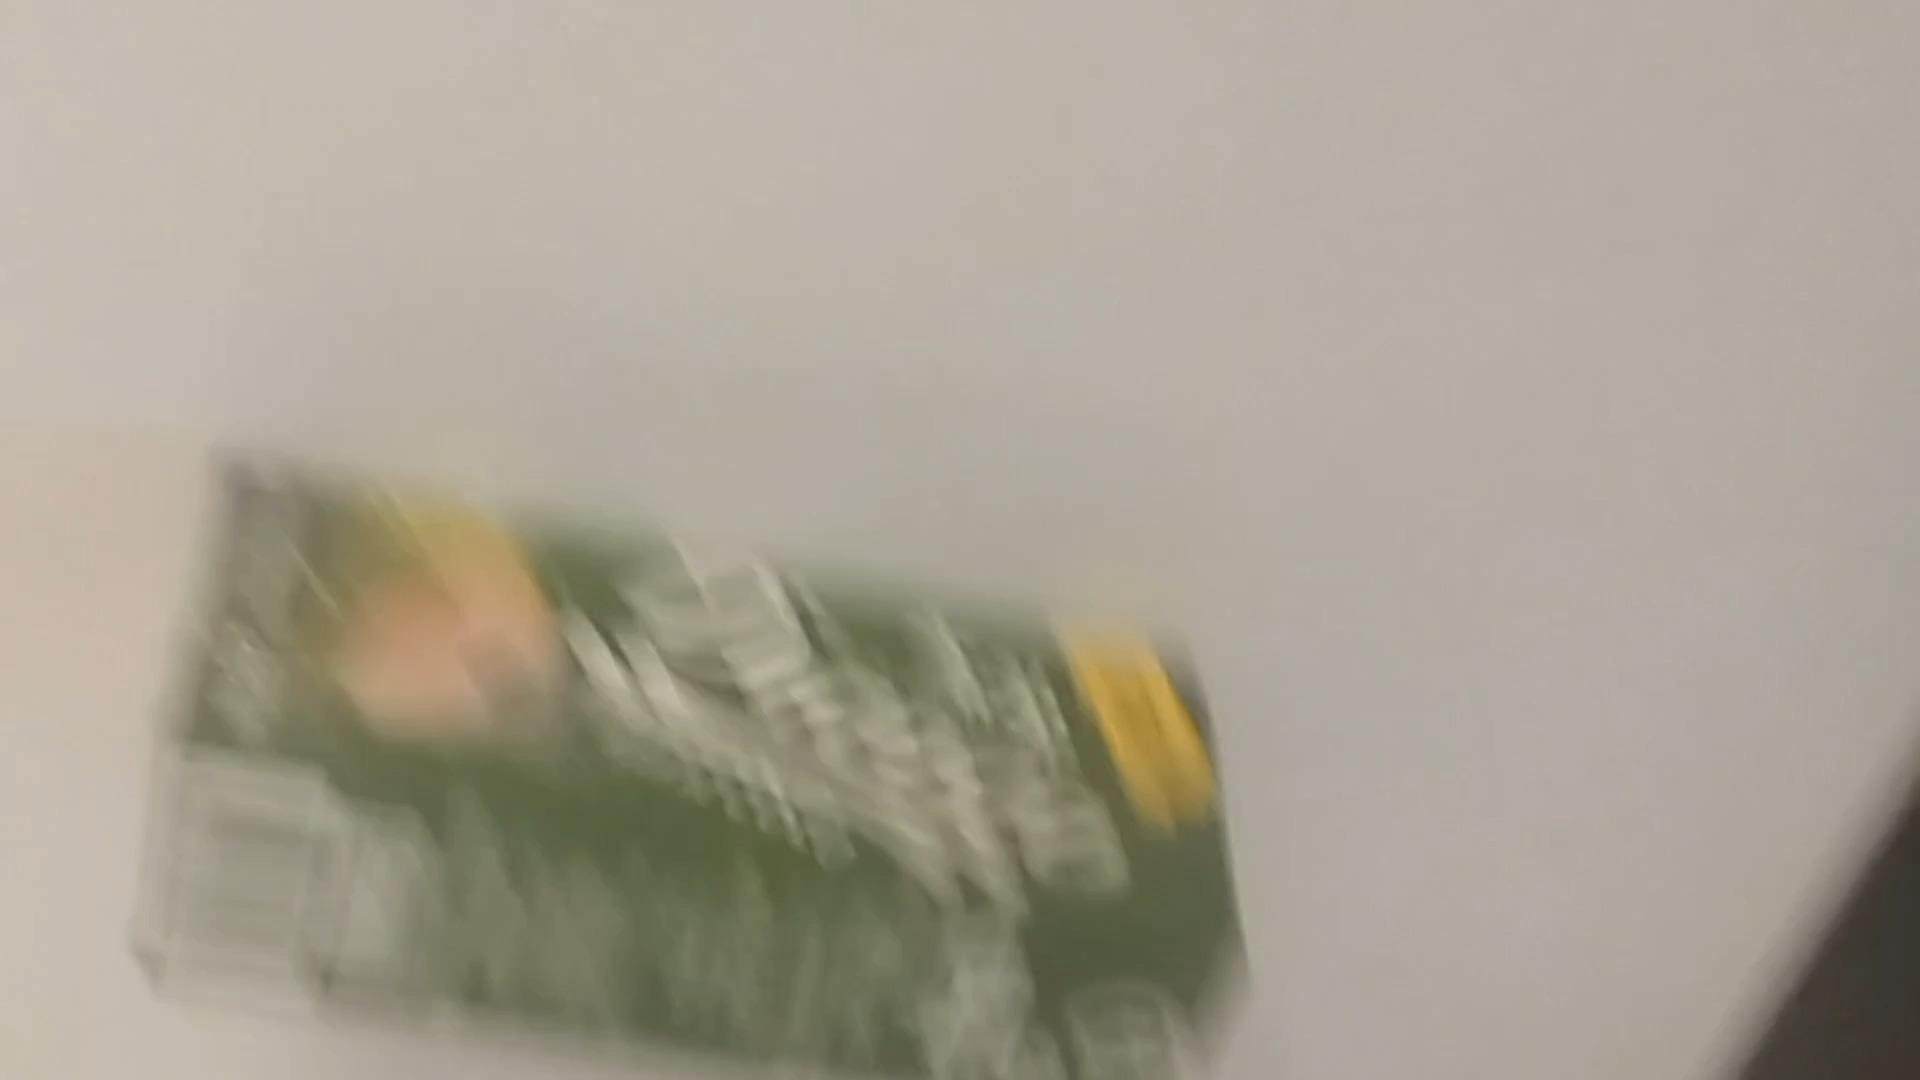coco: (150, 455, 1253, 1080)
